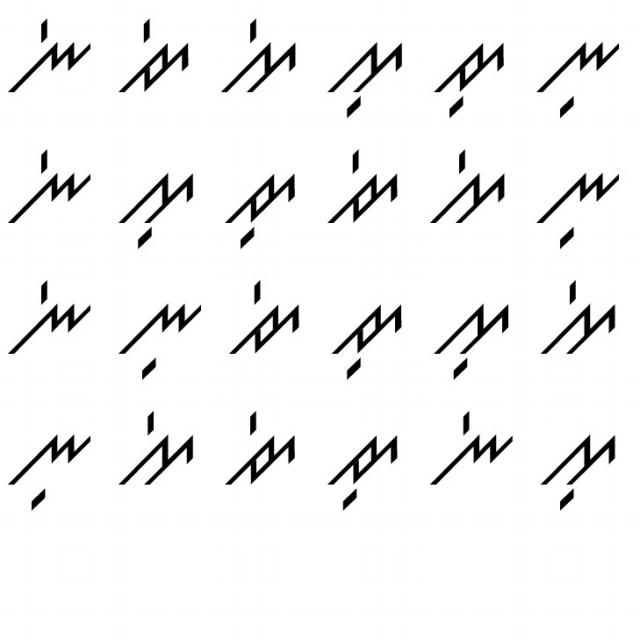je: (224, 400, 303, 494), (222, 278, 306, 363), (327, 140, 403, 232), (112, 15, 195, 96)
ju: (323, 294, 410, 381), (222, 160, 302, 251), (323, 426, 405, 514), (428, 31, 506, 120)
nye: (423, 404, 522, 488), (5, 272, 99, 358), (7, 146, 100, 232), (7, 17, 95, 93)
nyu: (110, 292, 204, 379), (532, 31, 622, 119), (8, 424, 96, 512), (532, 166, 624, 249)
se: (117, 404, 203, 493), (429, 145, 512, 232), (219, 14, 300, 102), (540, 278, 621, 359)
su: (538, 419, 623, 516), (113, 160, 204, 247), (427, 291, 512, 383), (324, 34, 411, 120)
